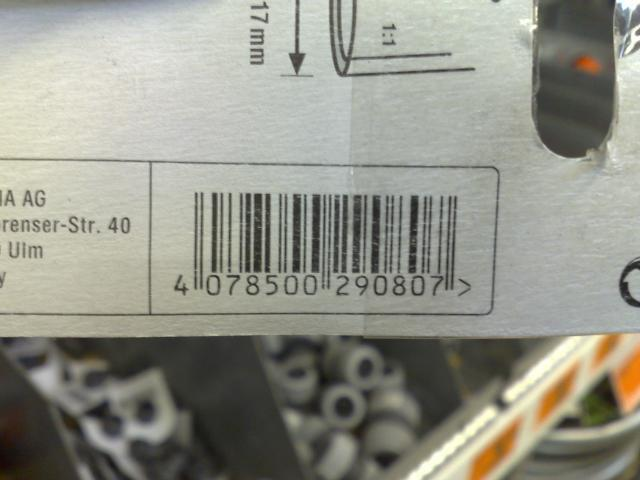Barcode: (167, 179, 466, 305)
